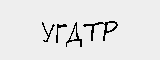Г: (53, 22, 66, 46)
Д: (65, 21, 81, 49)
Р: (101, 18, 120, 45)
Т: (83, 21, 103, 44)
У: (38, 21, 54, 45)
